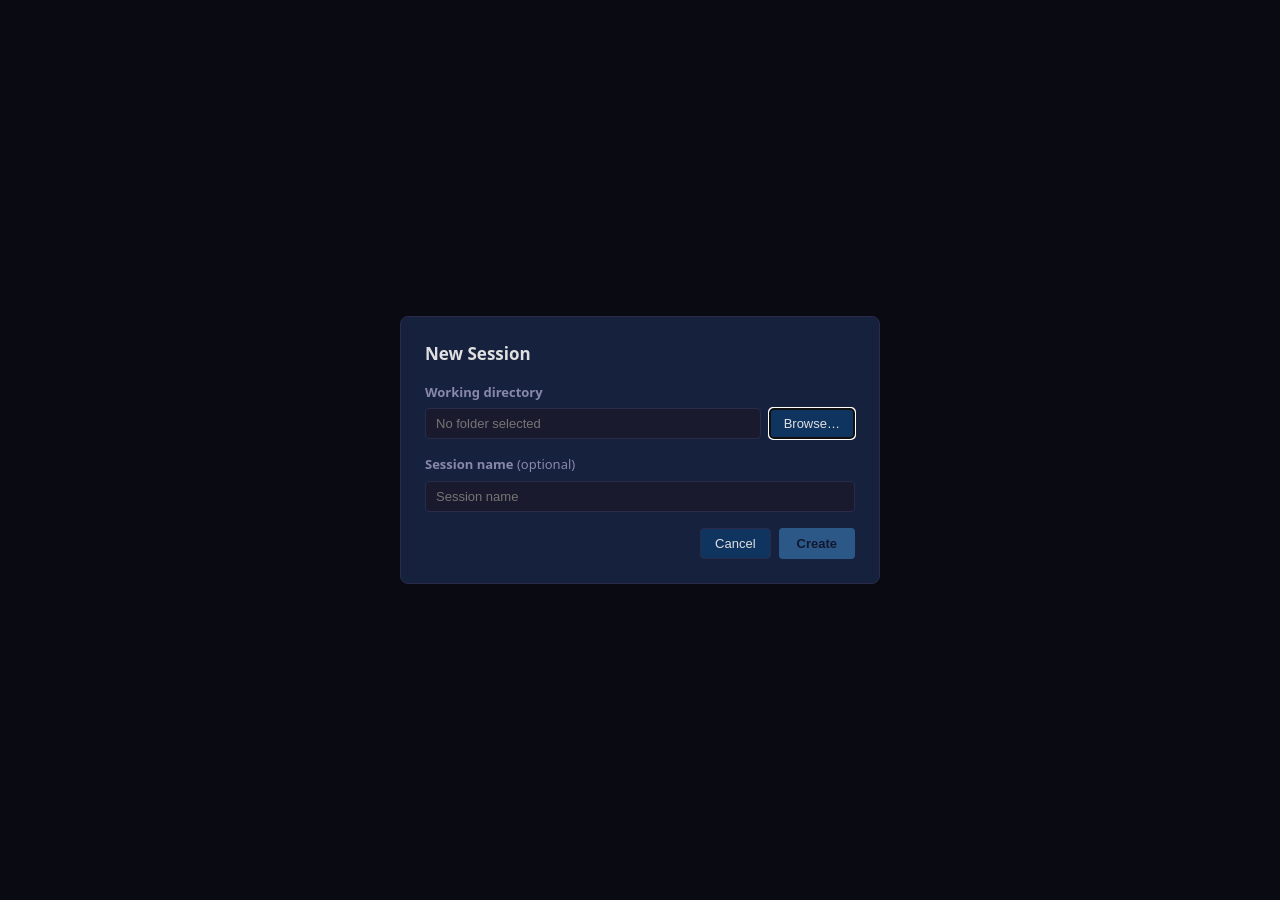
it: NewSessionDialog › shows error message and re-enables buttons when create rejects
Click the button "Browse…": (812, 424) [769,408,855,439]
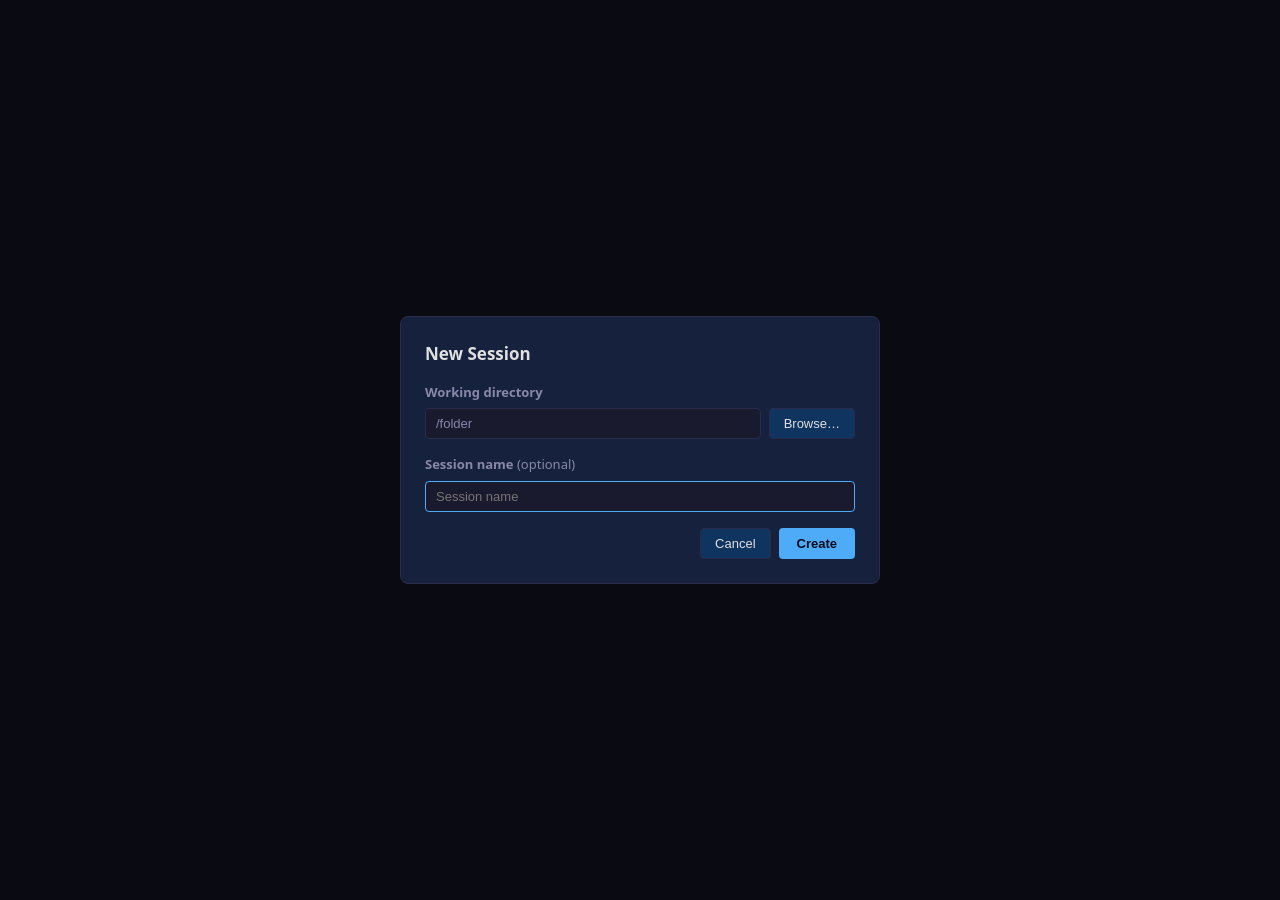
Click the button "Create": (817, 543) [778,528,855,559]
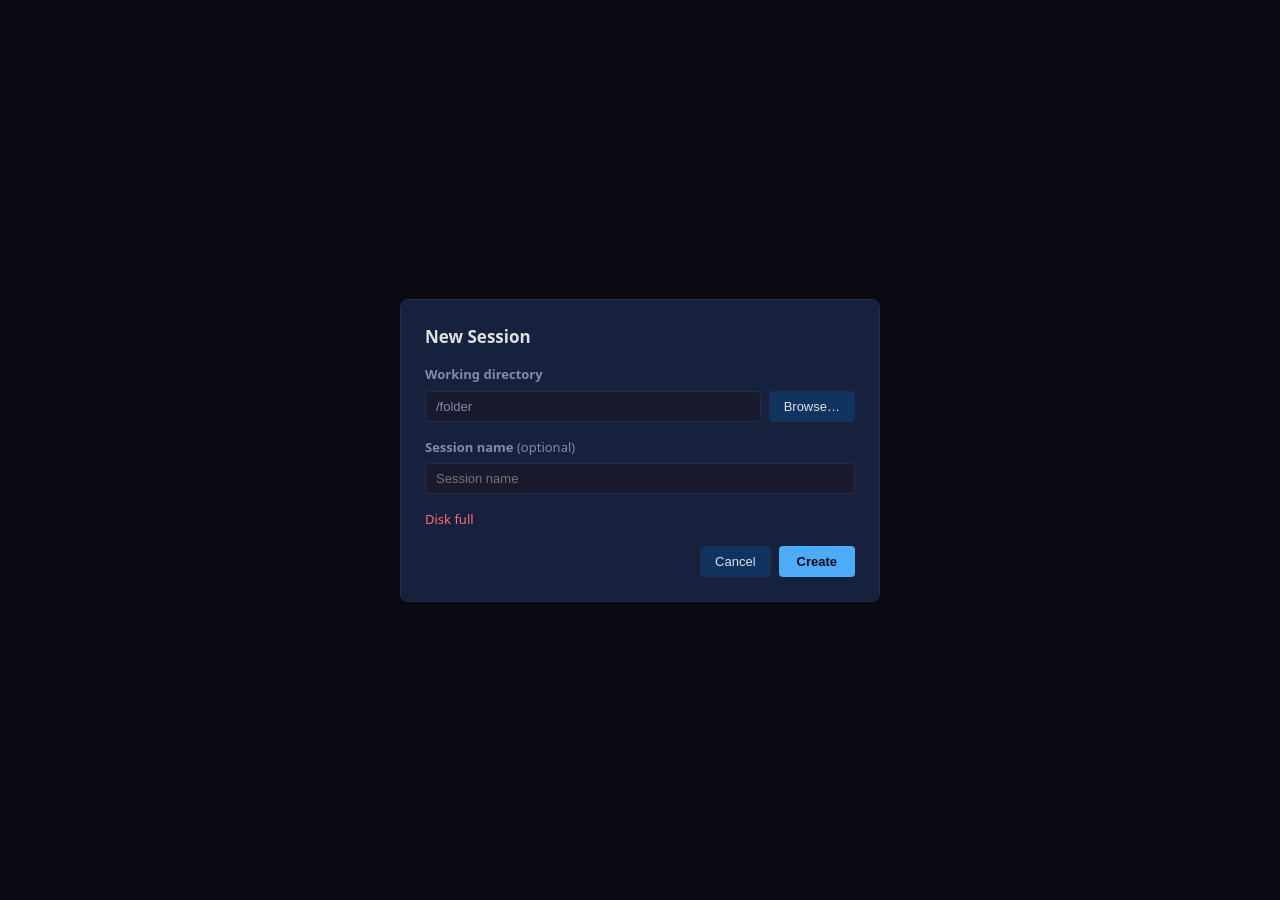
Expected: the button "Cancel" is enabled, [700,546,771,576]
Expected: the button "Create" is enabled, [778,546,855,576]
Expected: the text "Disk full" is shown, [425,510,474,528]
